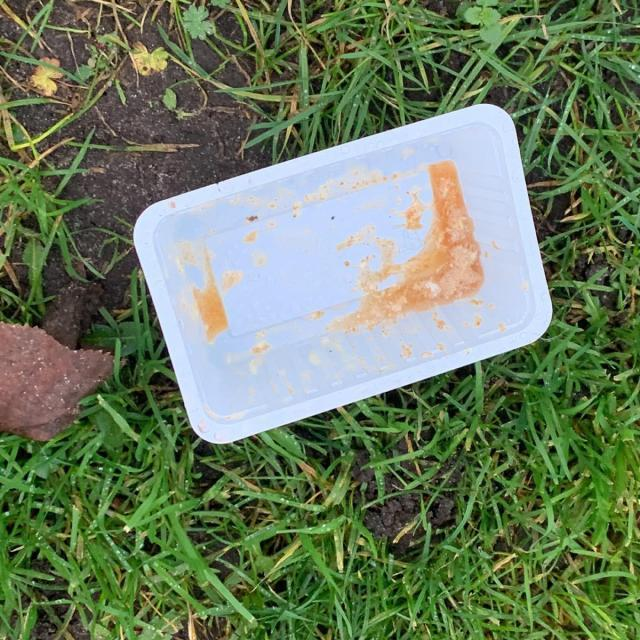Plastic: (130, 100, 556, 447)
